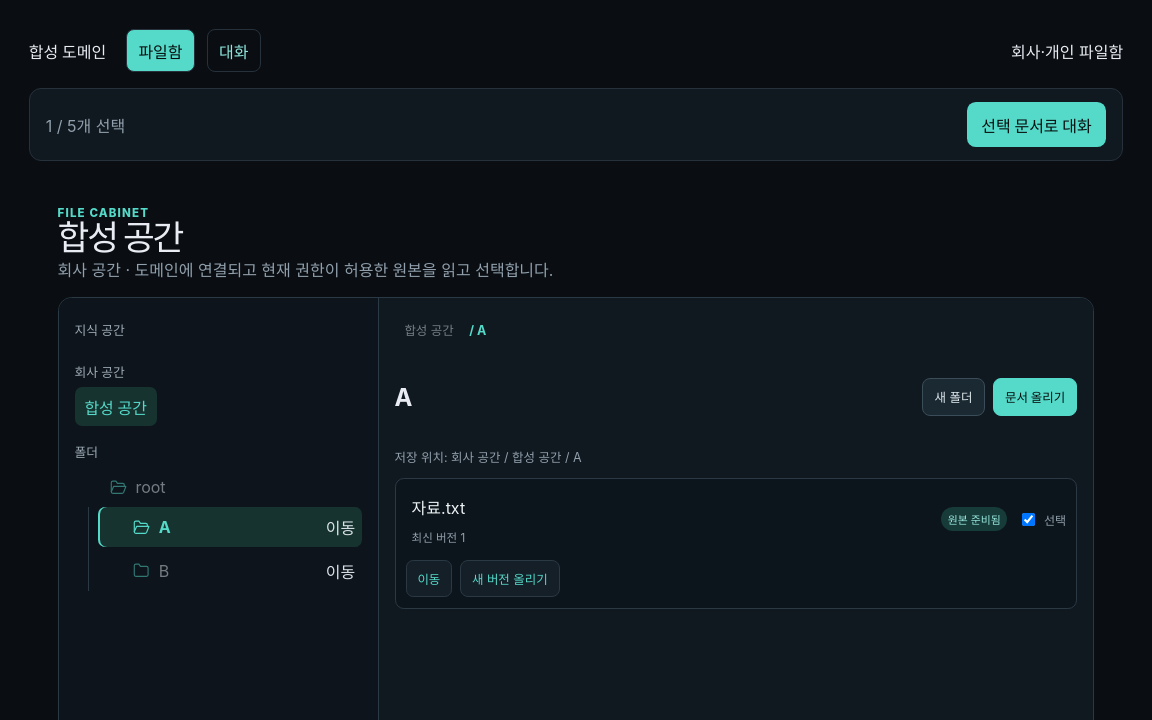
Test: allows authorized moves beyond fixed search folders and invalidates the parent without widening
This screenshot has width=1152, height=720.
Click the button with aria-label "자료.txt 이동" at (429, 579), box [406, 560, 452, 598]
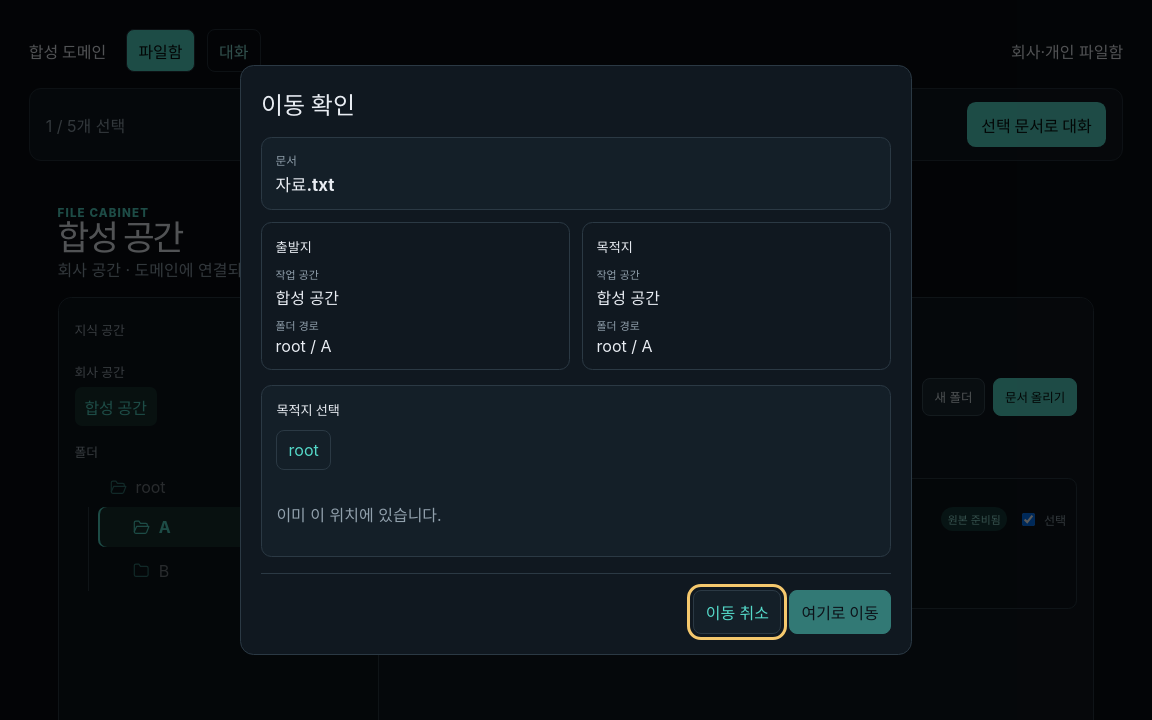
Now the button "root" is enabled
Click the button "root" at (304, 450), box [276, 430, 331, 470]
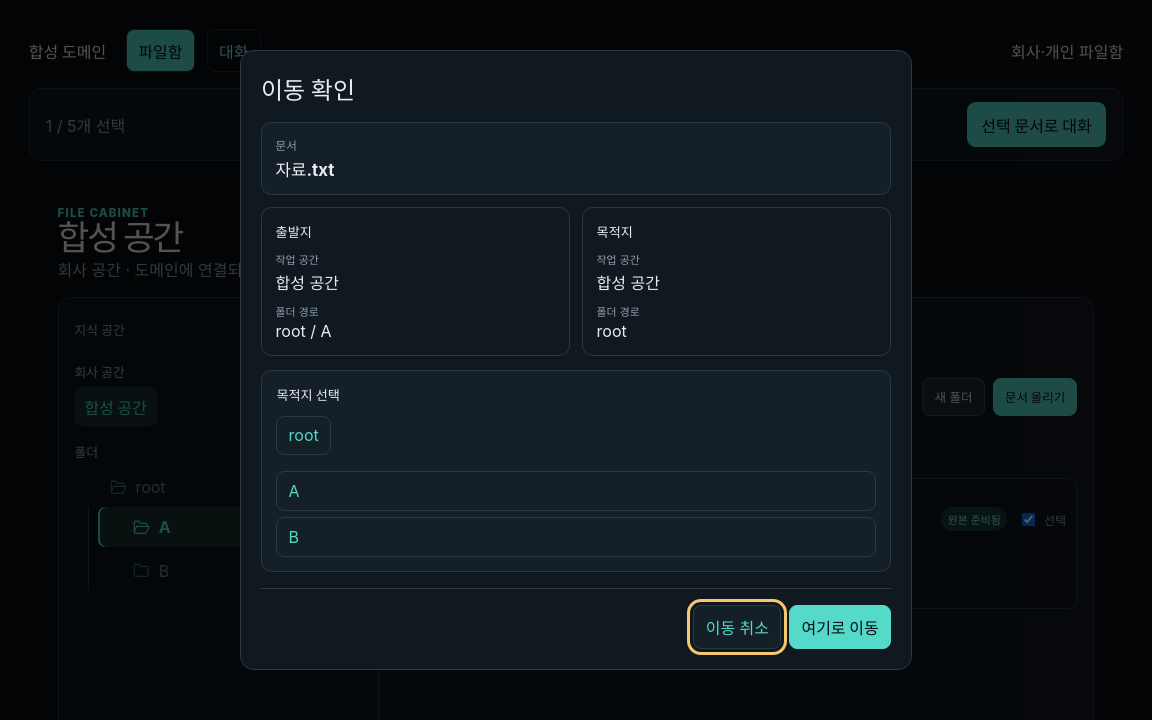
Click the button named "B 목적지 열기" at (294, 537), box [276, 517, 876, 557]
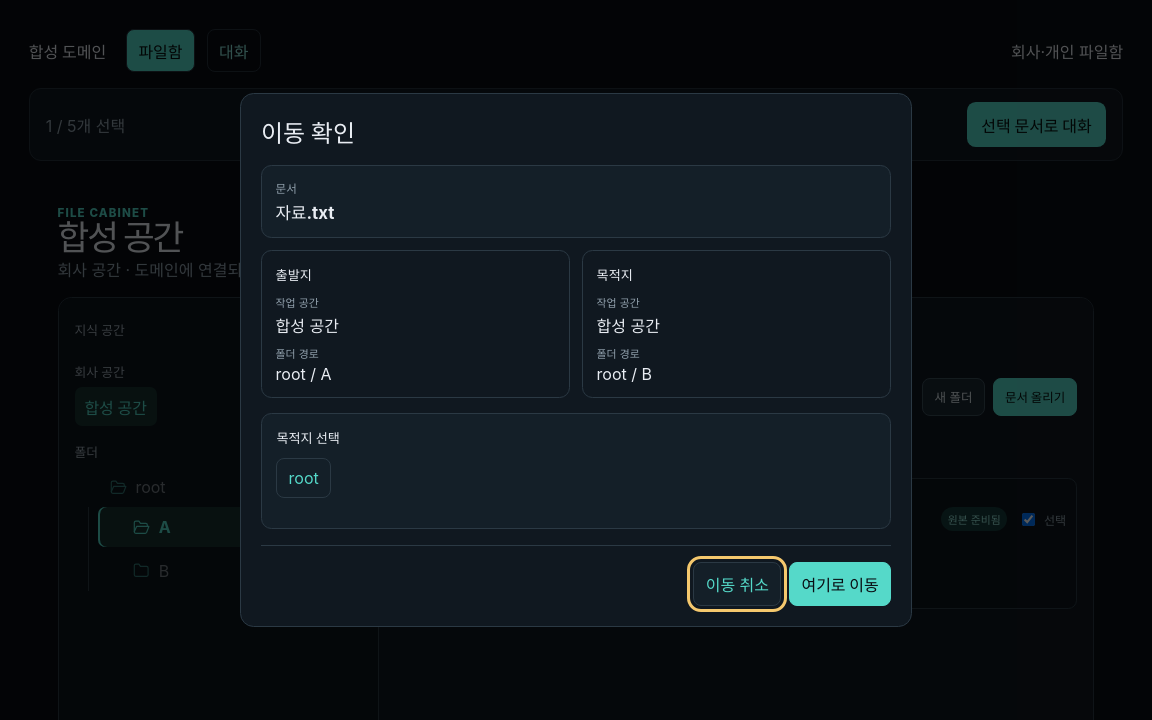
Now the button "여기로 이동" is enabled
Click the button "여기로 이동" at (840, 584), box [789, 562, 891, 606]
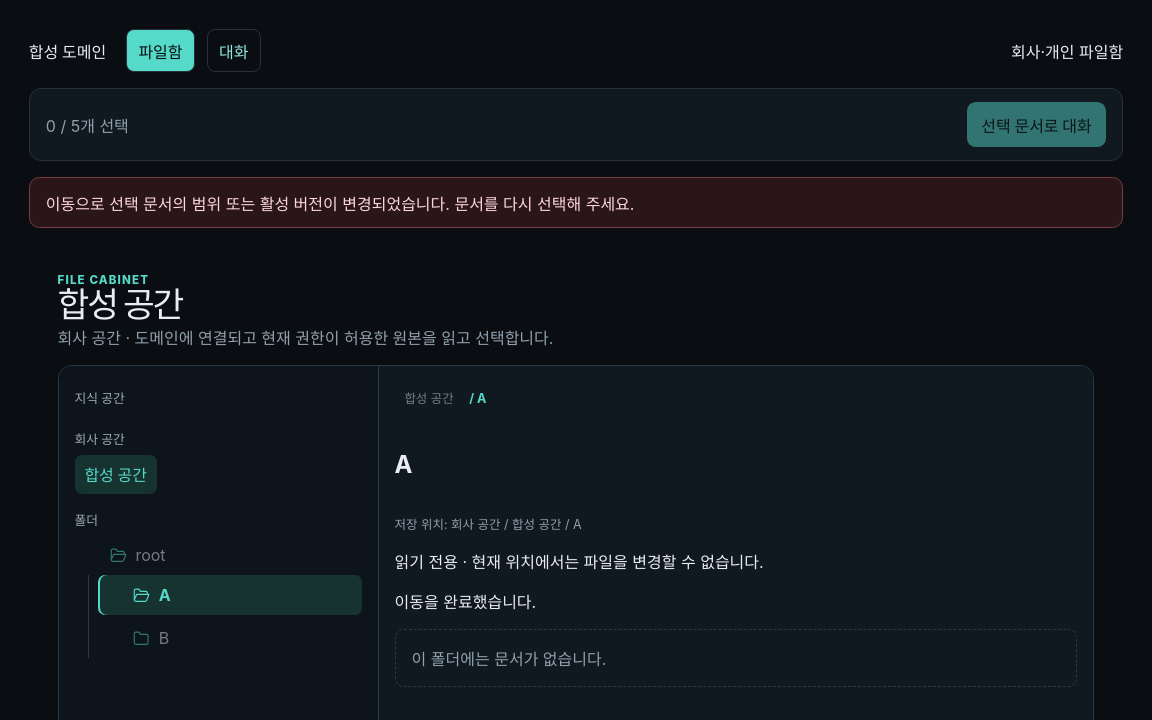
Now the button "선택 문서로 대화" is disabled, box [967, 102, 1106, 147]
Now the text "이동으로 선택 문서의 범위 또는 활성 버전이 변경되었습니다. 문서를 다시 선택해 주세요." is shown, box [29, 177, 1123, 228]
